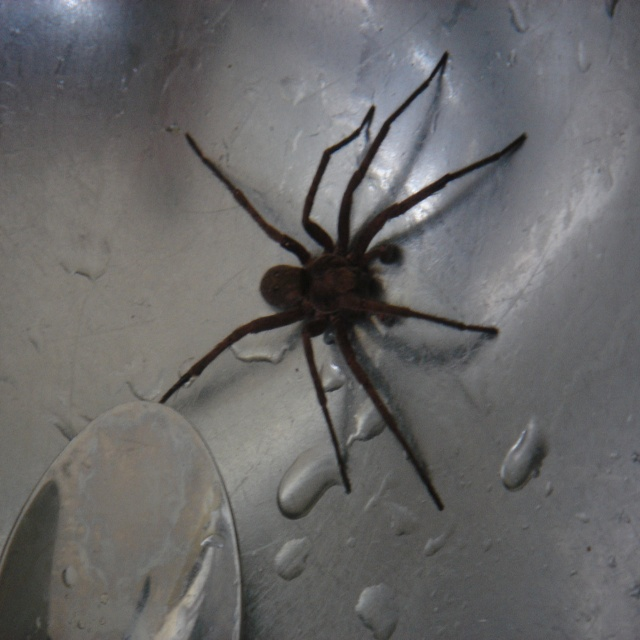Spider: (159, 48, 527, 513)
